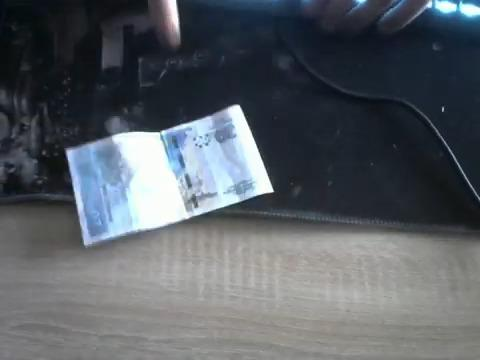20leva: (65, 105, 275, 248)
